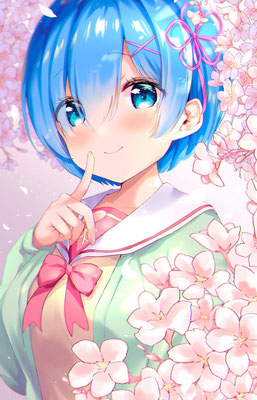rem: (9, 3, 228, 392)
